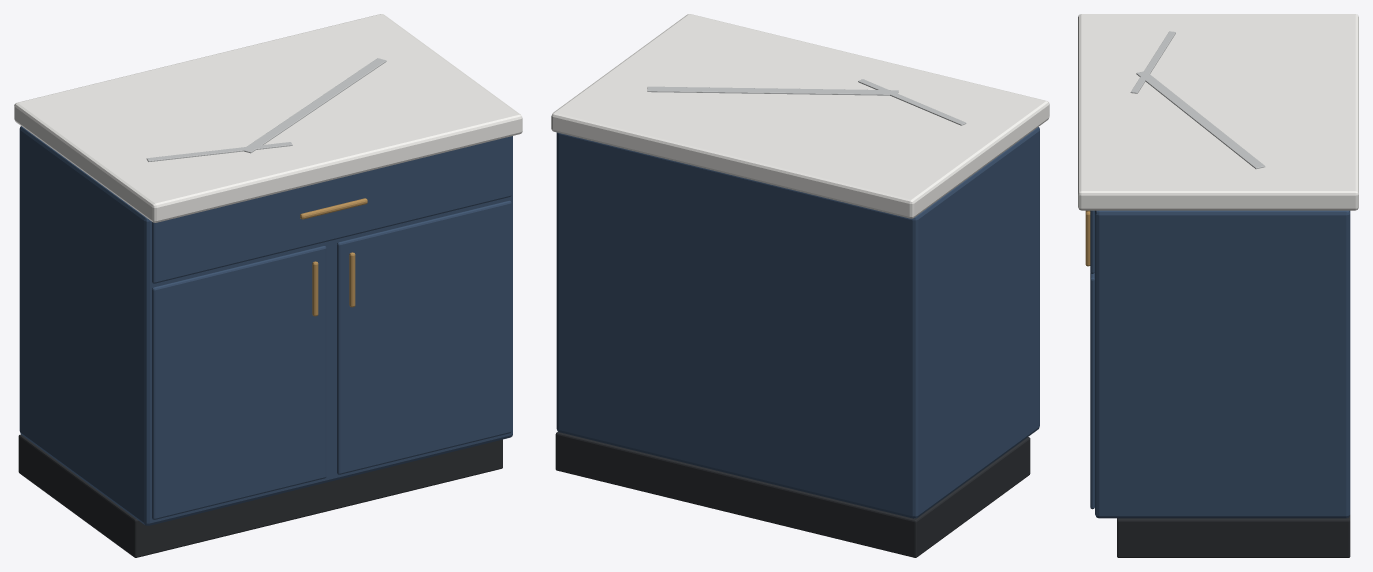
Rendered from counterMarble.glb.
3 renders of one model, left to right at view 1: azimuth 30°, elevation 25°; view 2: azimuth 150°, elevation 25°; view 3: azimuth 270°, elevation 25°, orthographic. The views are drawn at different scales.
Parts seen in each view (by area): view 1: body, drawer; view 2: body; view 3: body.
Boxes of the visible parts, x1,y1,x2,y2 form: body: (14,14,522,557); drawer: (152,136,511,283); body: (551,14,1049,557); body: (1078,14,1358,557).
Bounding box in the file's own units: 1 × 0.953 × 0.66.
